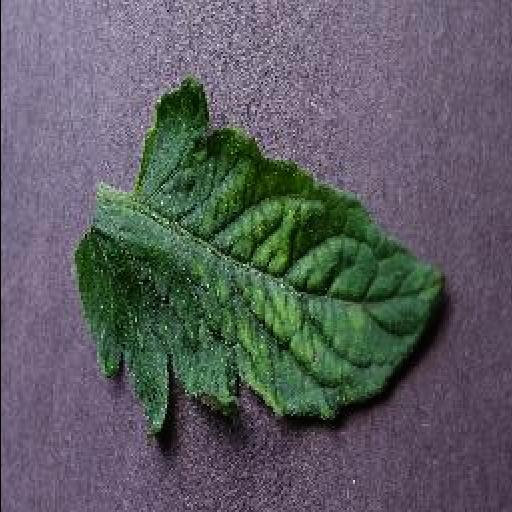disease_tomato: (72, 78, 448, 434)
